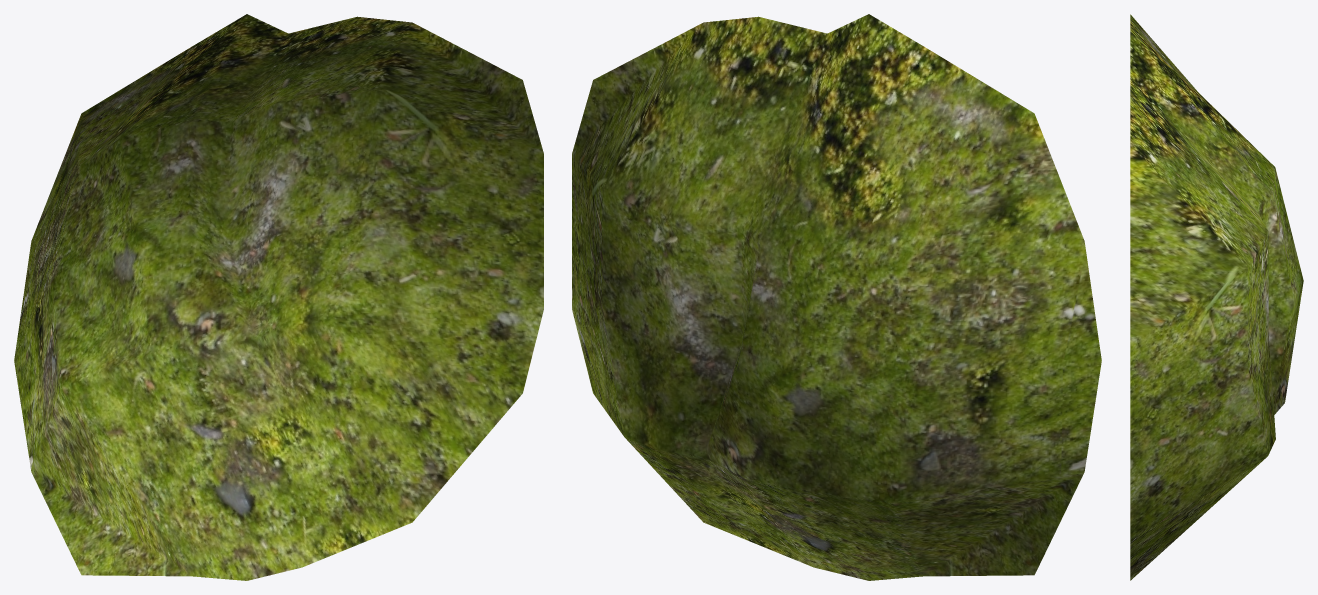
Rendered from forest ground stones mossy 2.fbx.
The picture shows the model from 3 angles, left to right: view 1: azimuth 30°, elevation 25°; view 2: azimuth 150°, elevation 25°; view 3: azimuth 270°, elevation 25°; orthographic projection. The views are drawn at different scales.
Parts seen in each view (by area): view 1: Plane_001; view 2: Plane_001; view 3: Plane_001.
Boxes of the visible parts, box(x1,y1,x2,y2) form: Plane_001: box(14, 14, 543, 580); Plane_001: box(572, 14, 1101, 580); Plane_001: box(1130, 14, 1303, 580).
Bounding box in the file's own units: 1.02 × 1.04 × 0.3313.
